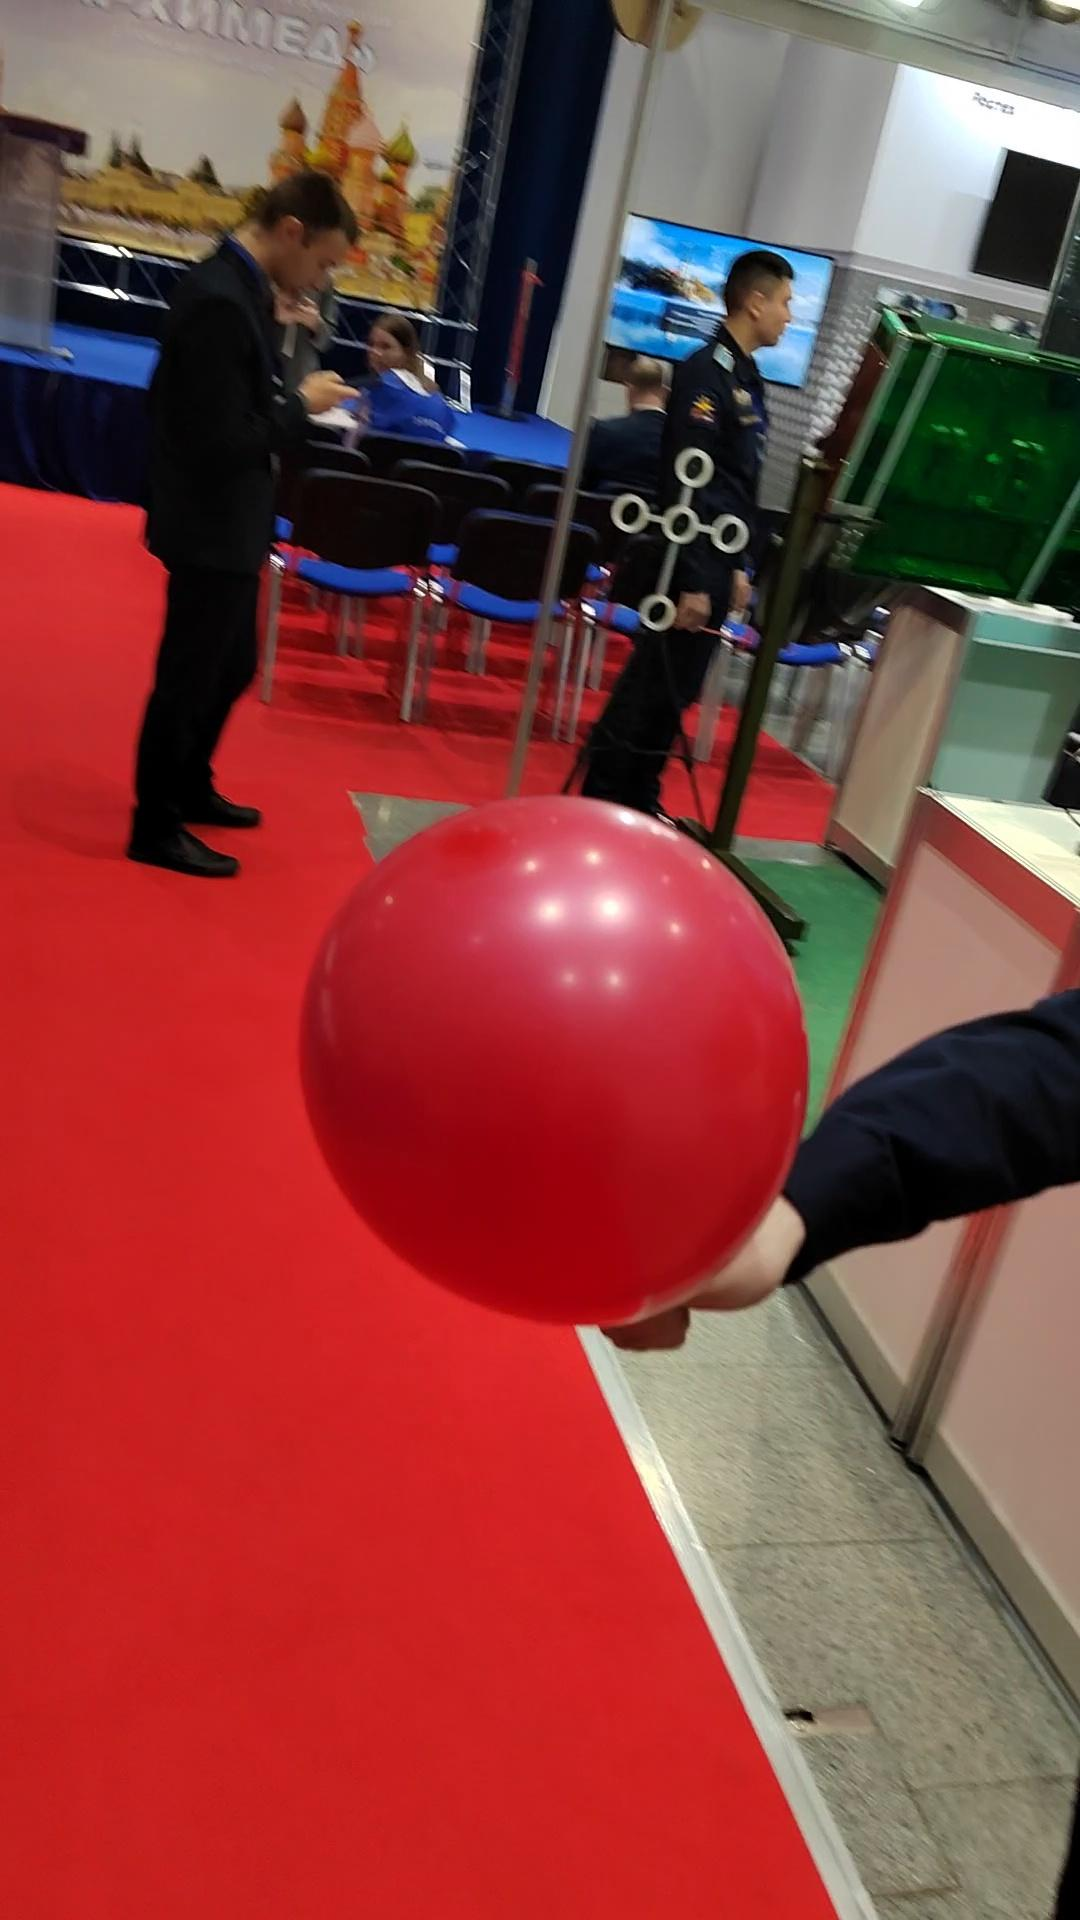red: (278, 777, 823, 1354)
